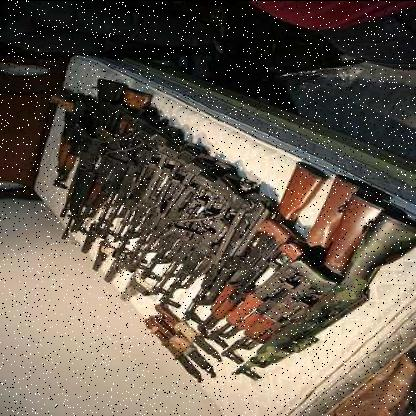rifle: (222, 211, 415, 383)
